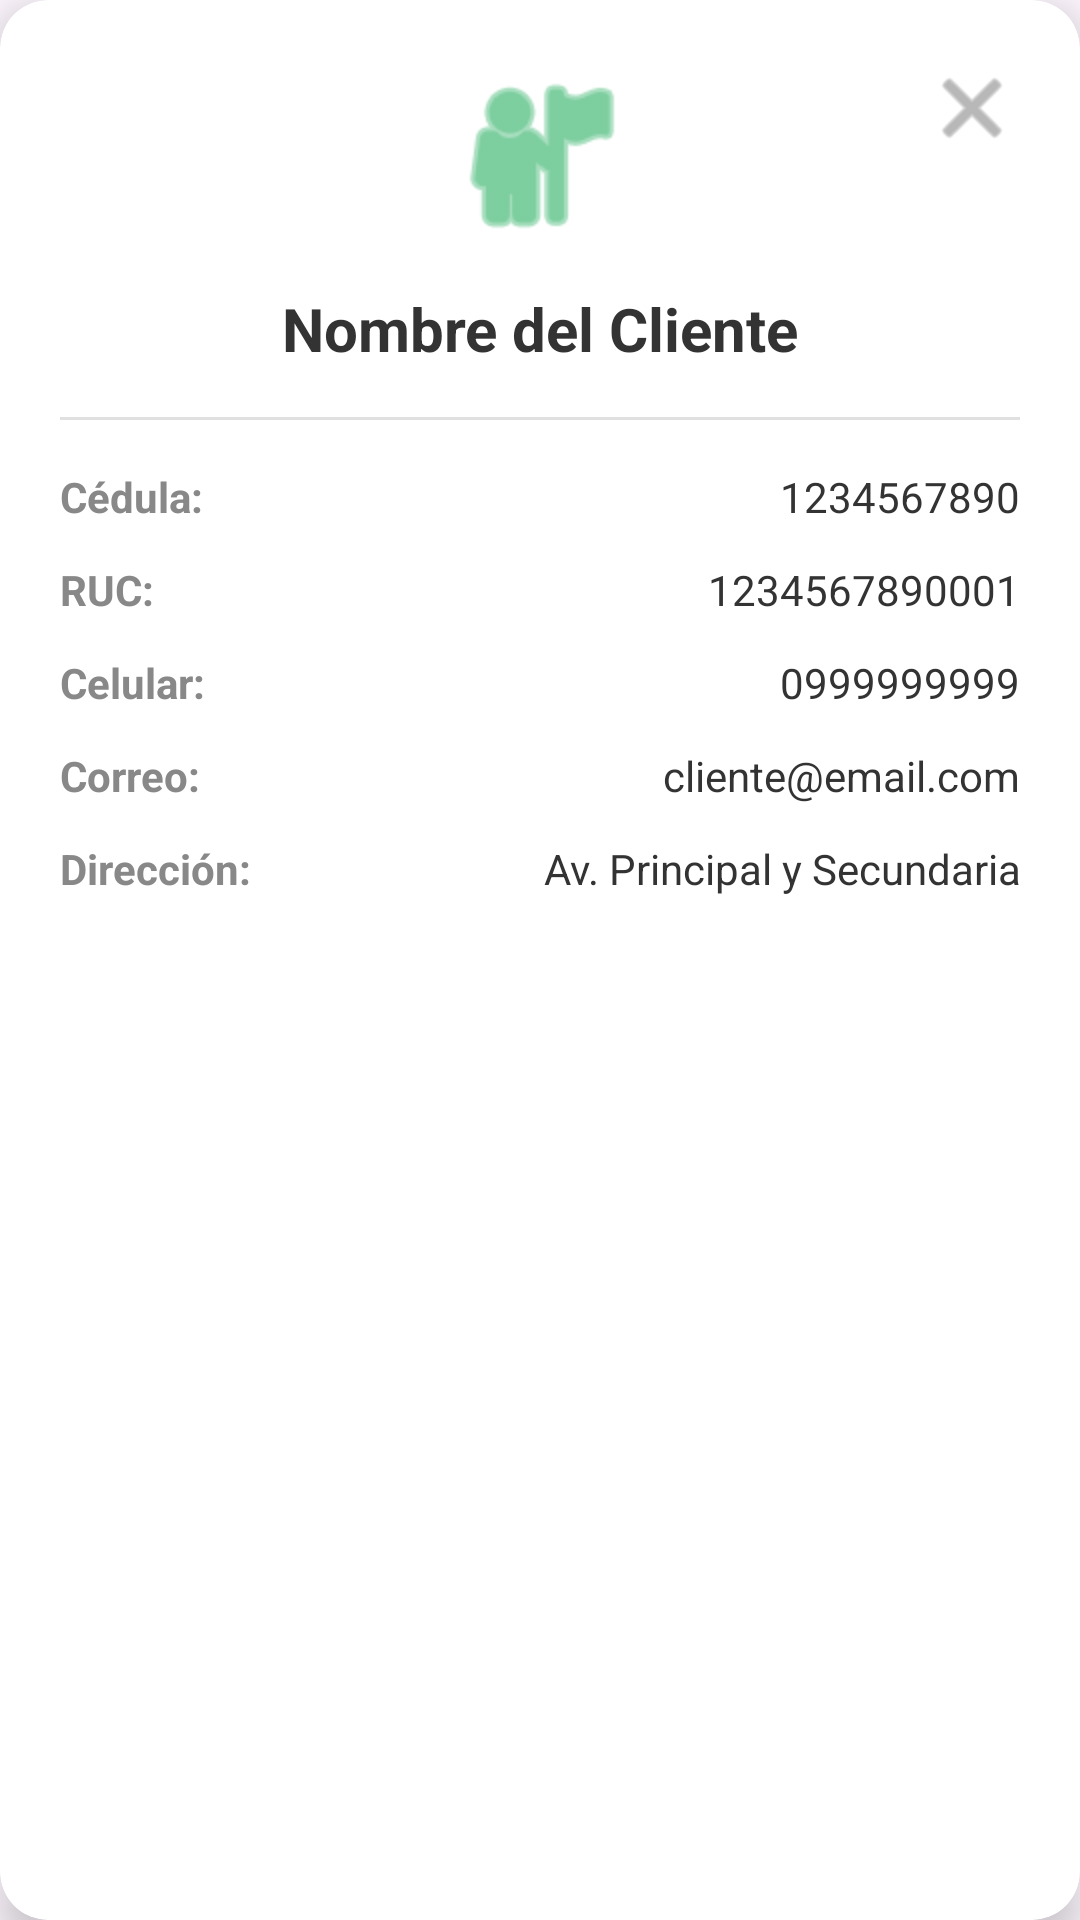

Icons on this 1080x1920 Android screen, each with its box as (x1, y1, x2, y2):
close clear cancel: (943, 79, 1001, 137)
myplaces: (470, 84, 614, 228)
